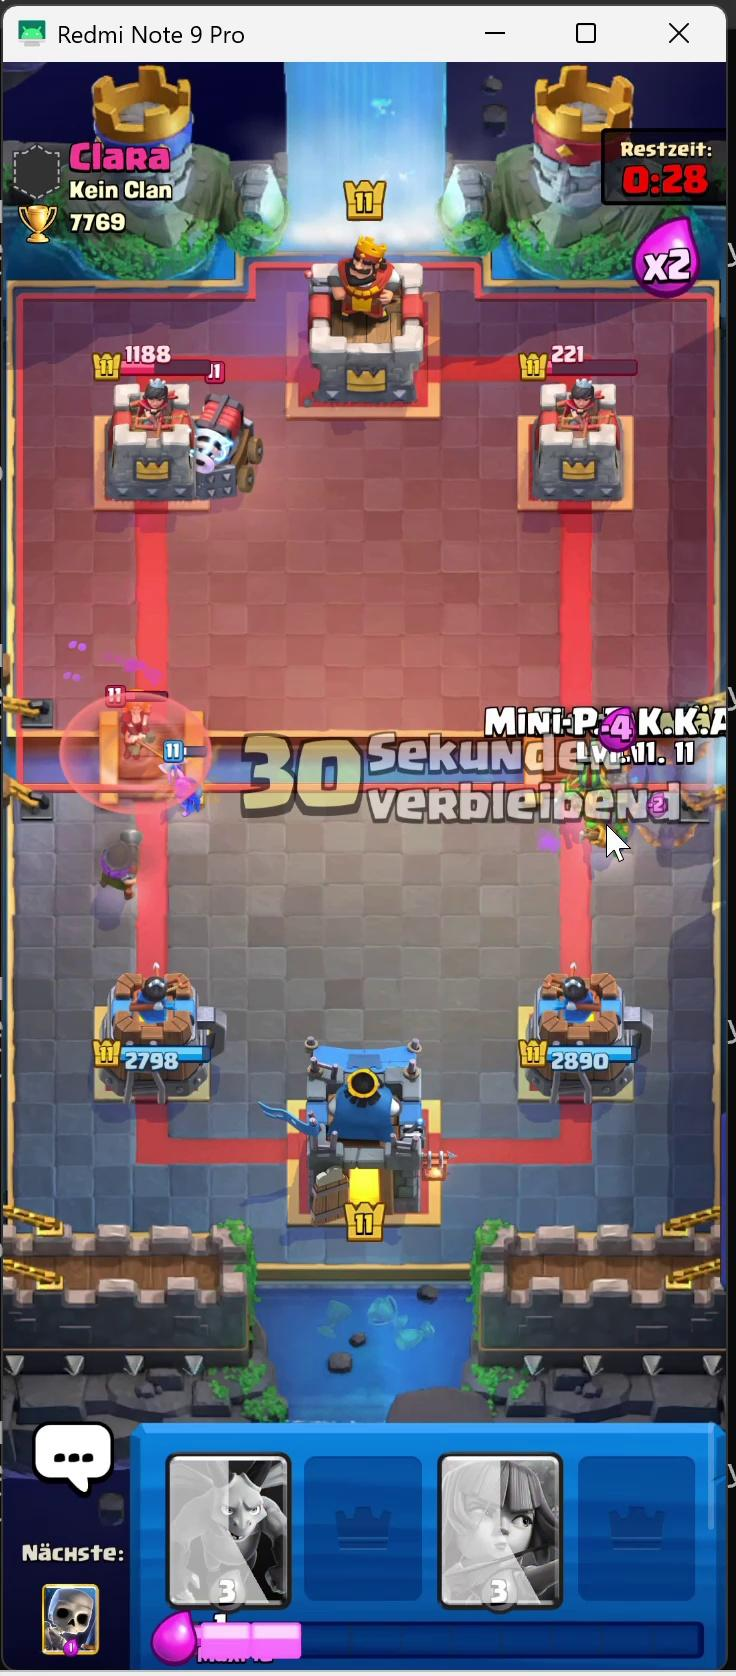archere: (174, 767, 200, 820)
gobelin_lances: (592, 798, 626, 859), (576, 766, 602, 801)
mousquetaire: (105, 832, 145, 916)
valkyrie: (113, 693, 161, 750)
zappy: (188, 397, 267, 507)
